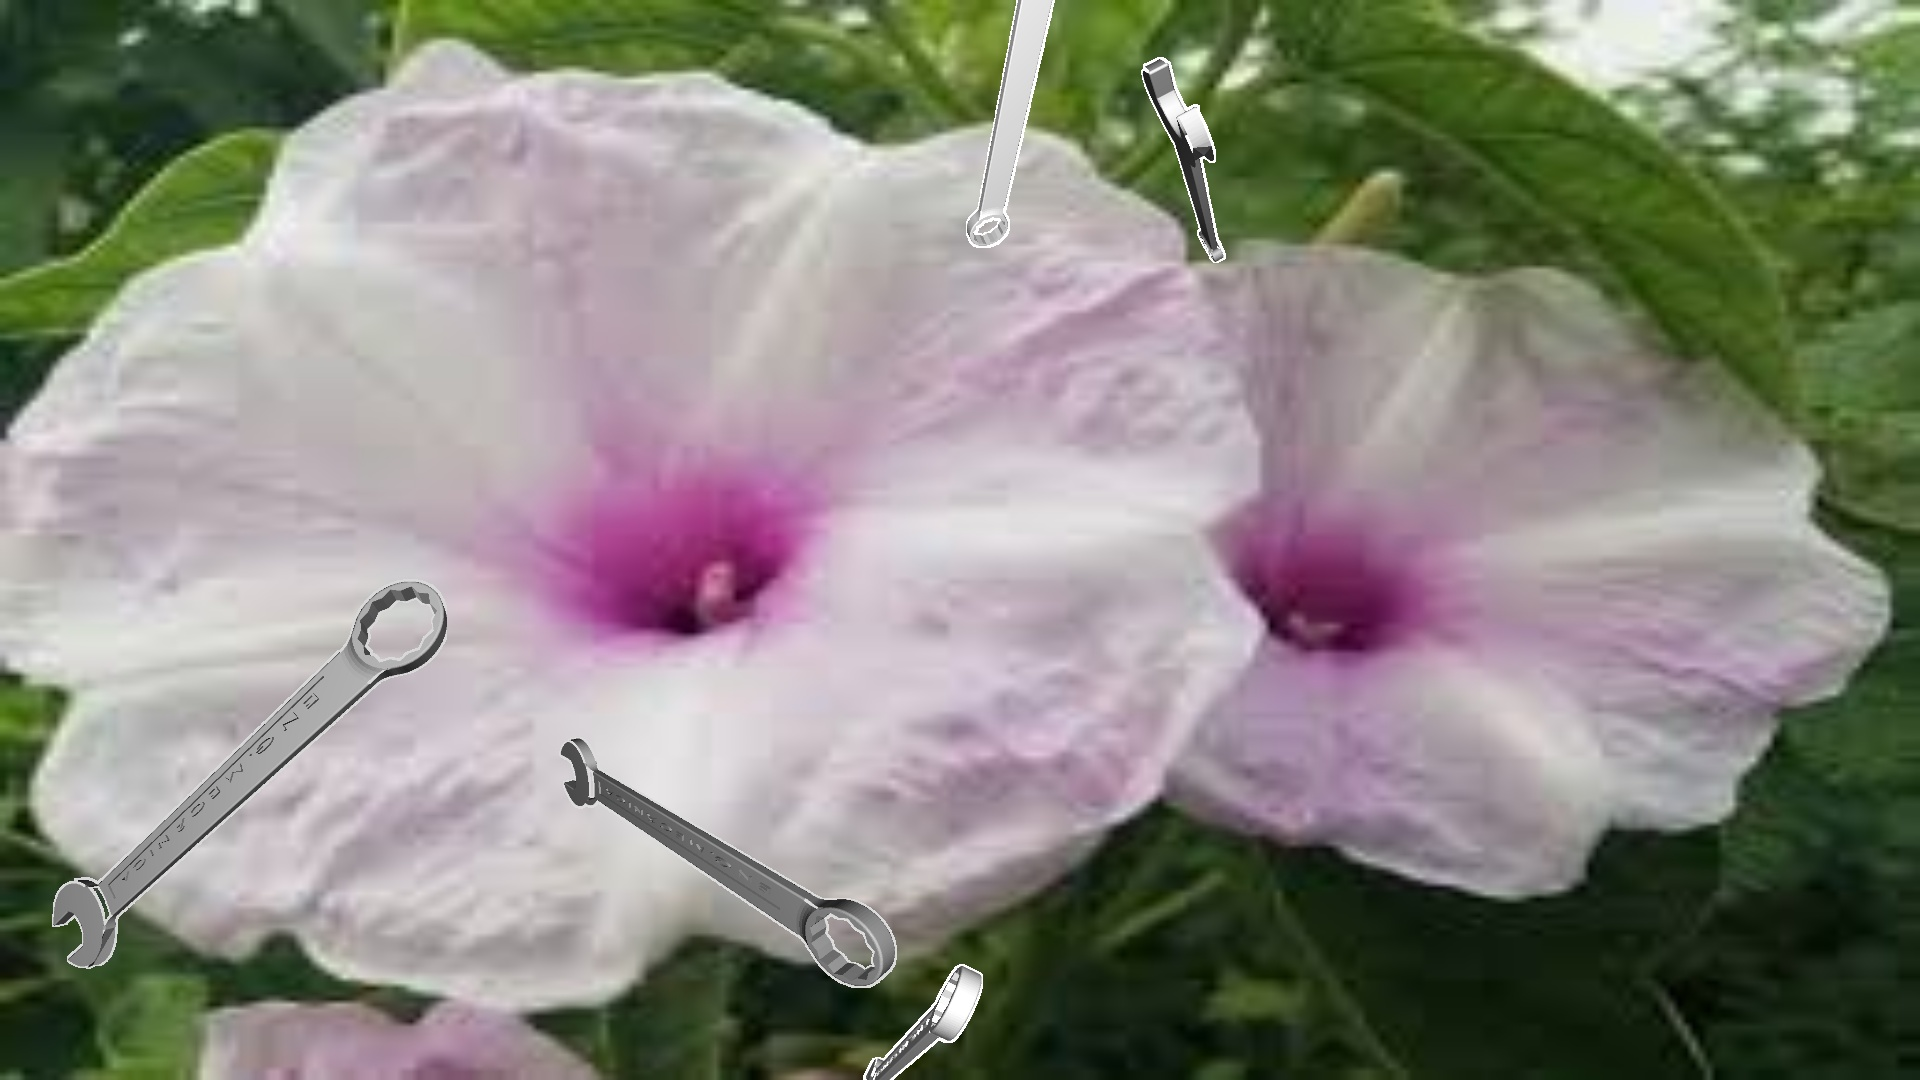Mixed Key: (51, 579, 446, 968), (559, 737, 895, 986), (967, 0, 1054, 247), (1141, 57, 1225, 262), (862, 964, 982, 1079)
